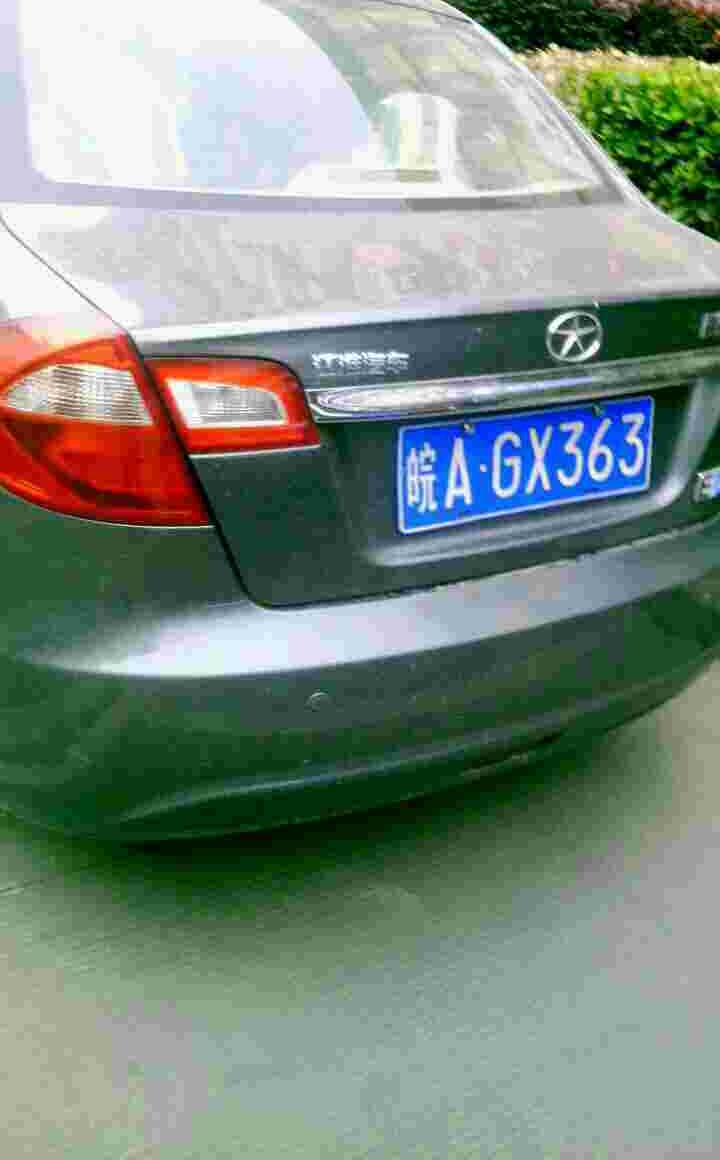car: (389, 416, 639, 493)
